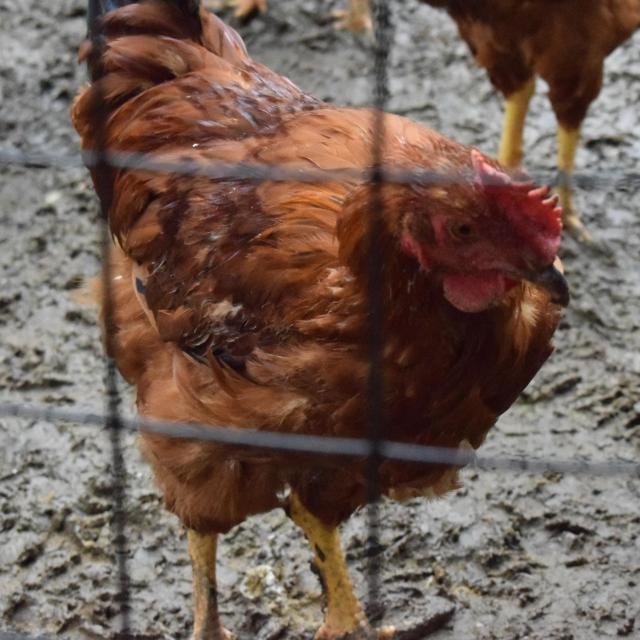cook: (142, 433, 368, 638)
